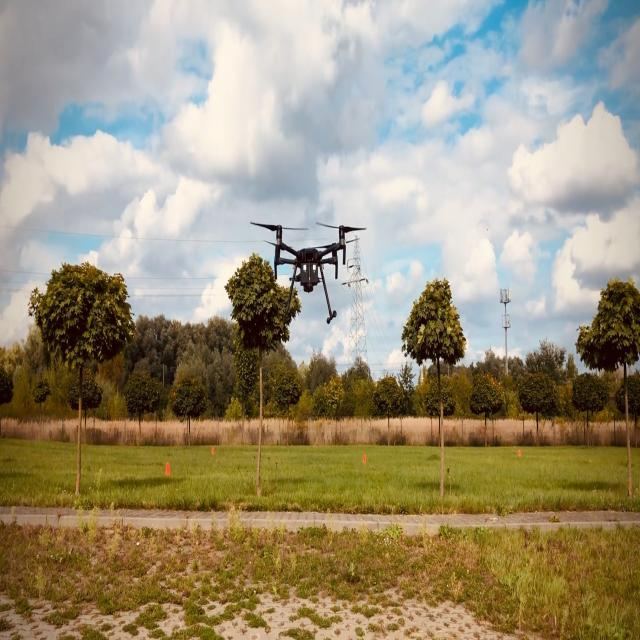drone: (249, 220, 367, 325)
